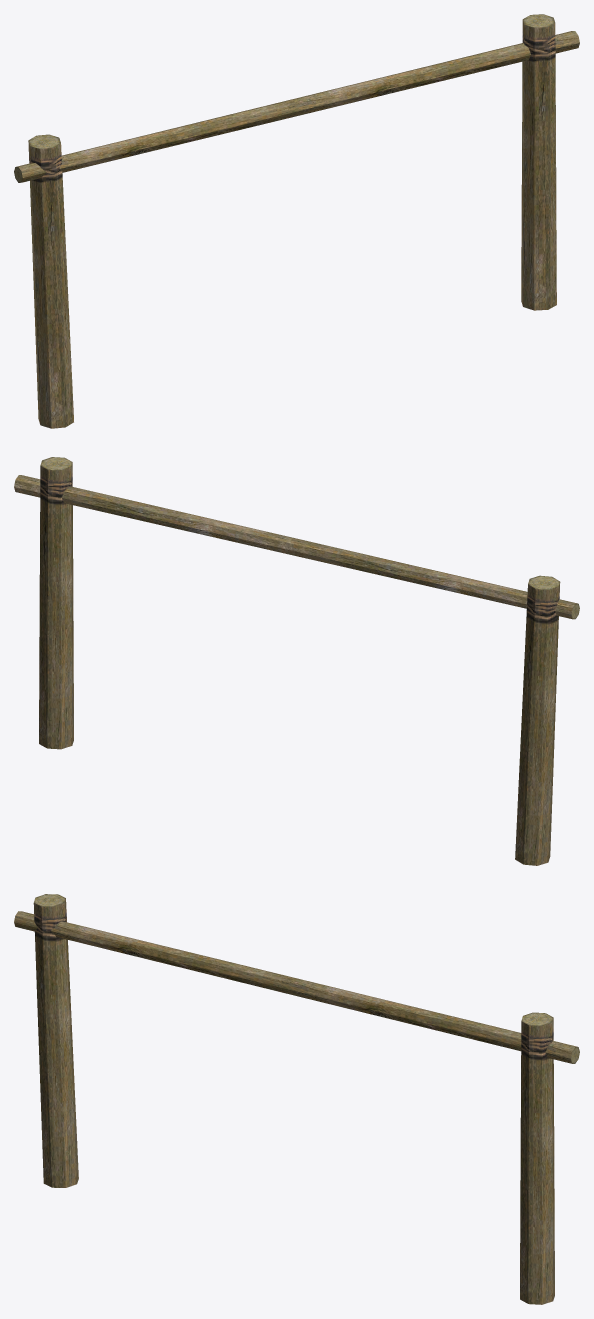
File: thm_endr_lake_rail2m_l0.fbx
The picture shows the model from 3 angles, top to bottom: view 1: azimuth 30°, elevation 25°; view 2: azimuth 150°, elevation 25°; view 3: azimuth 330°, elevation 25°; orthographic projection.
Visible parts, largest first — view 1: mesh_node; view 2: mesh_node; view 3: mesh_node.
Boxes of the visible parts, bbox=[...] form: mesh_node: bbox=[14, 14, 579, 428]; mesh_node: bbox=[14, 457, 579, 865]; mesh_node: bbox=[14, 894, 579, 1304].
Bounding box in the file's own units: 2 × 0.9654 × 0.1142.
